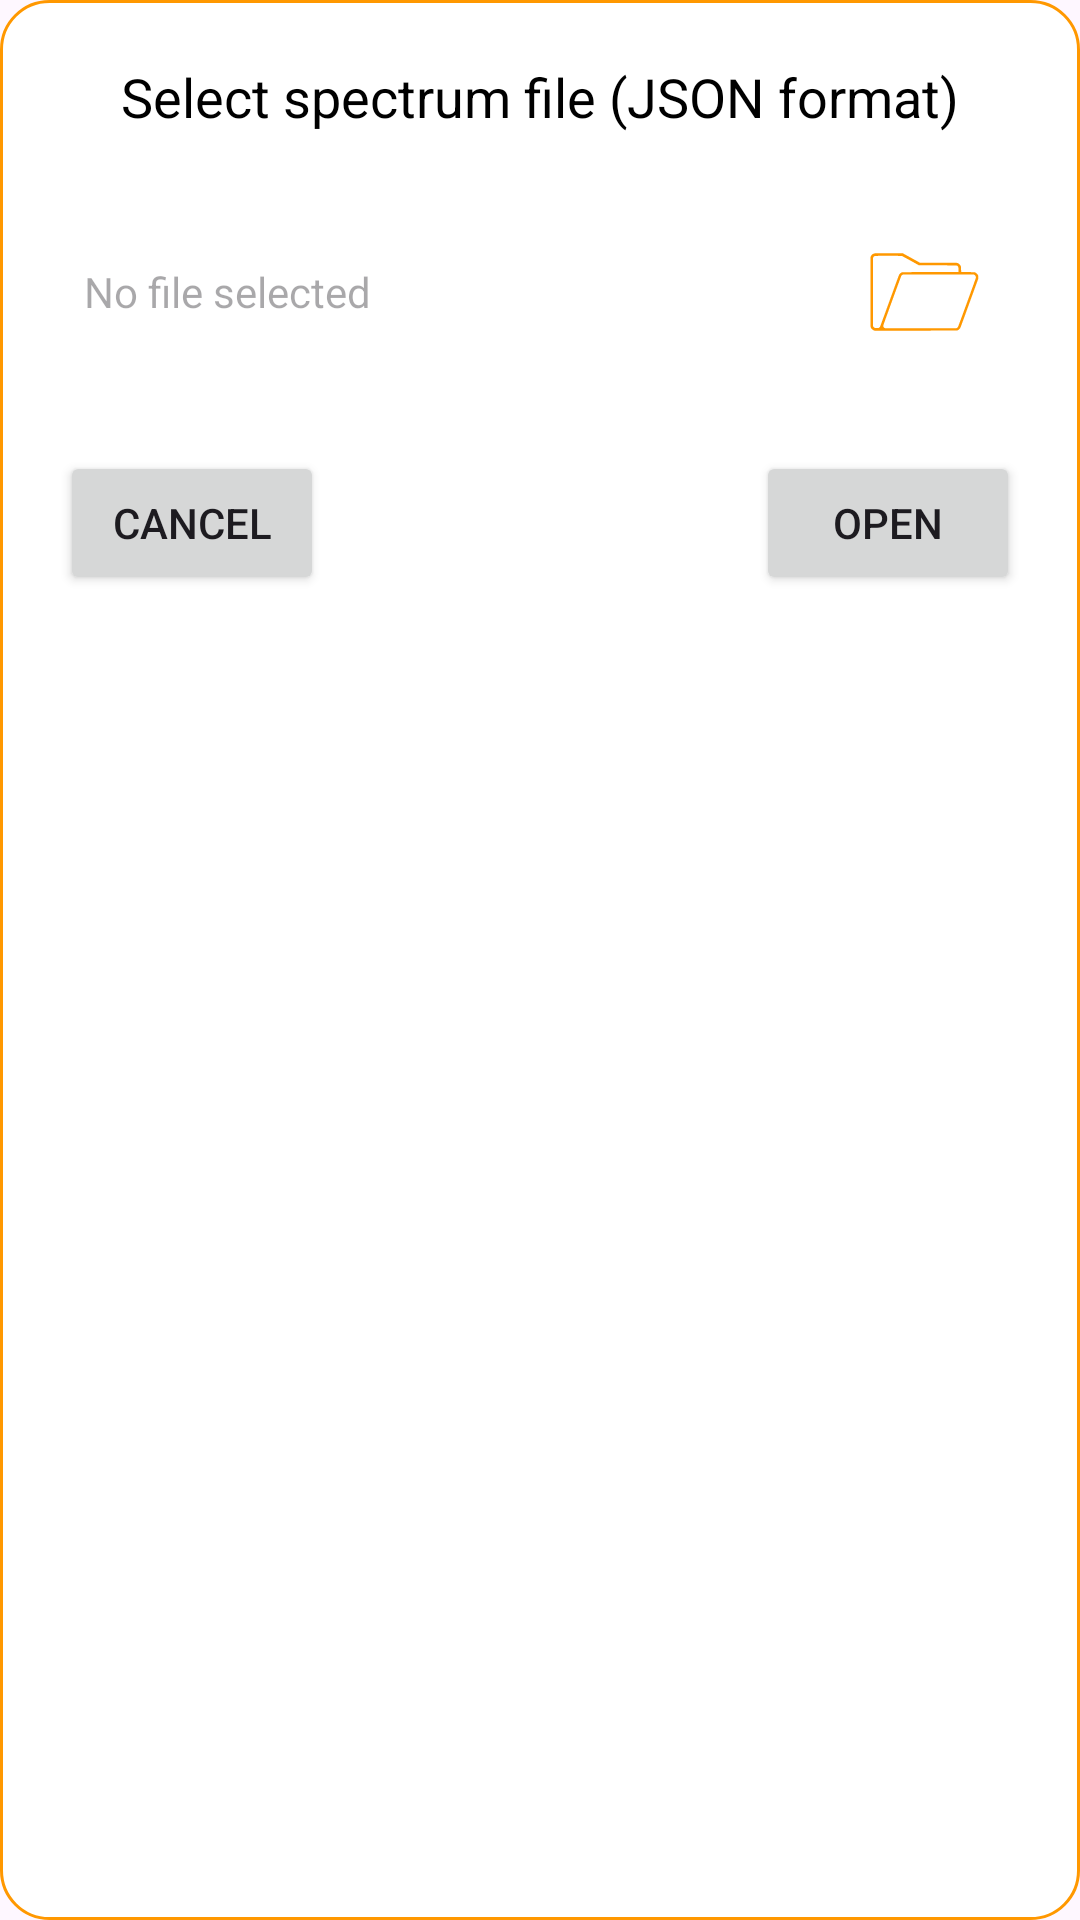

Where icons sit on this 1080*1920 app screen, as (x1,y1,x2,y2):
Choose file: (870,253,979,331)
